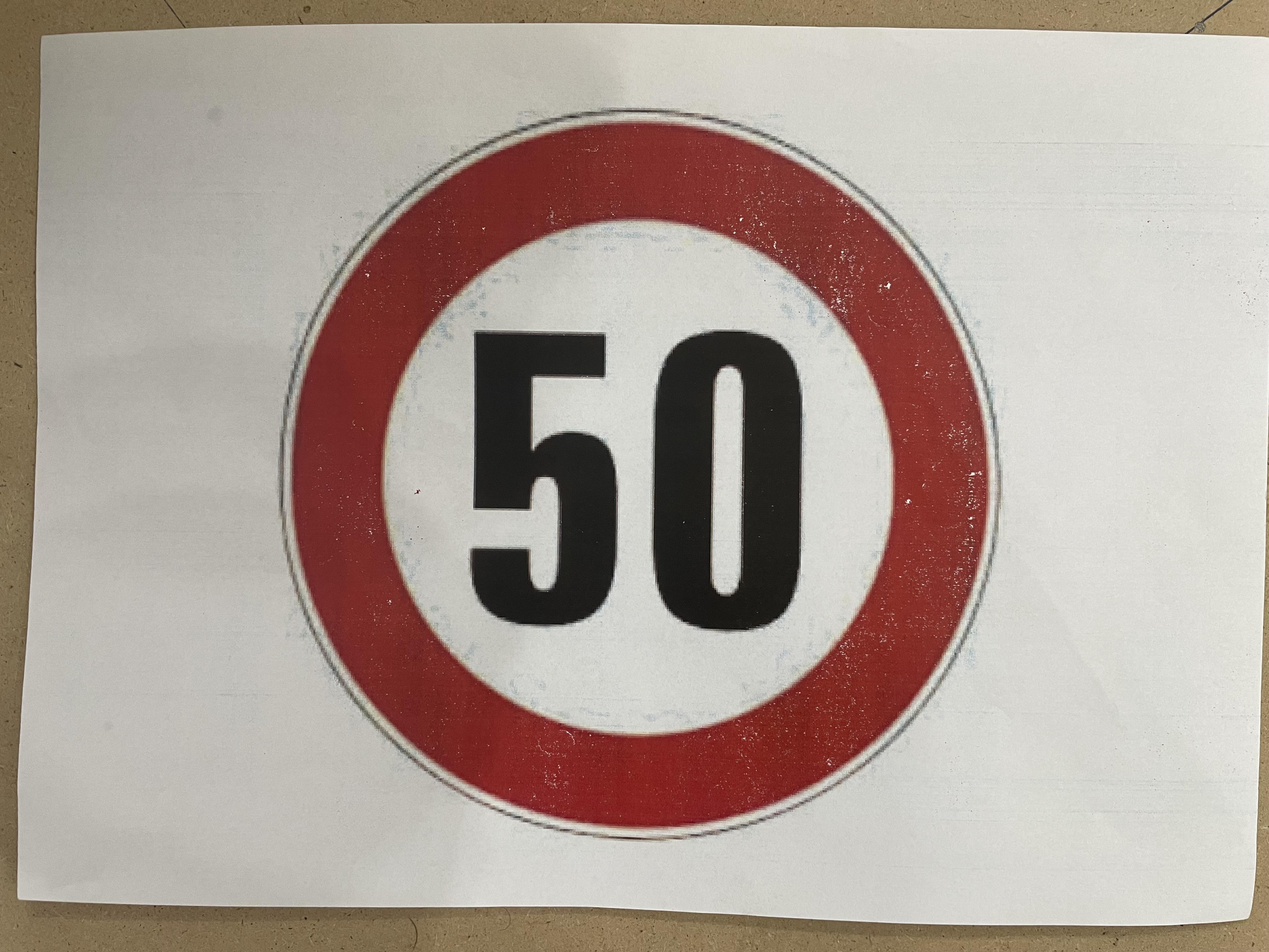50-Speed: (262, 110, 994, 844)
